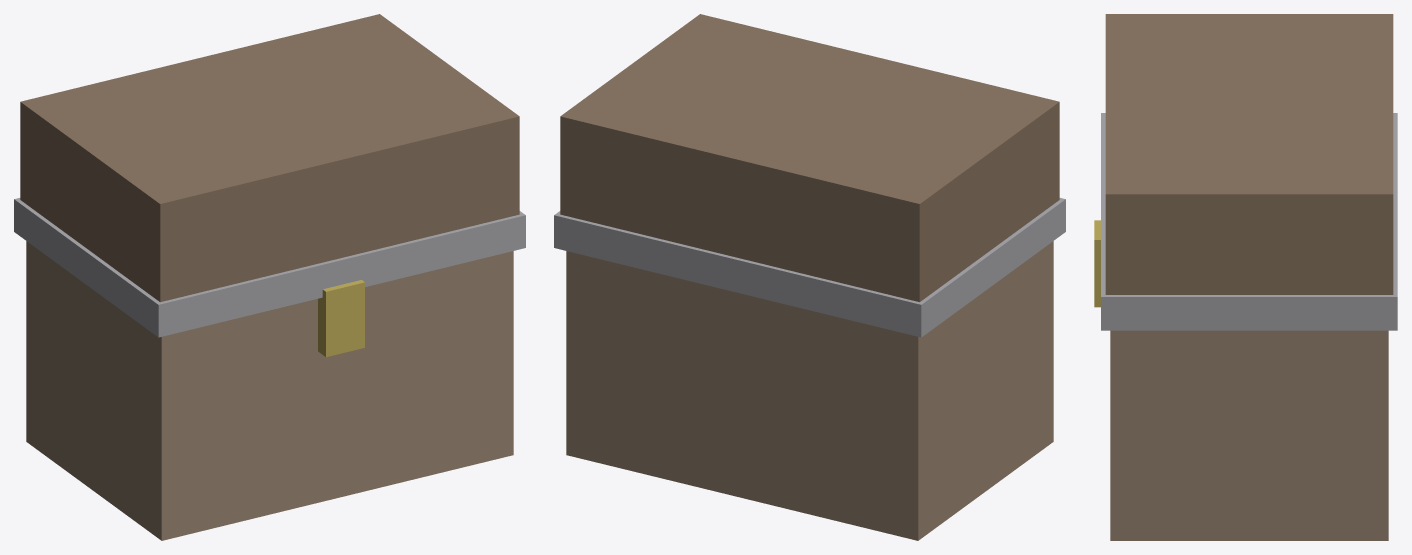
File: Chest_Closed.glb
3 renders of one model, left to right at view 1: azimuth 30°, elevation 25°; view 2: azimuth 150°, elevation 25°; view 3: azimuth 270°, elevation 25°, orthographic. The views are drawn at different scales.
Visible parts, largest first — view 1: geometry_0; view 2: geometry_0; view 3: geometry_0.
Boxes of the visible parts, x1,y1,x2,y2 form: geometry_0: [14, 14, 525, 540]; geometry_0: [554, 14, 1065, 540]; geometry_0: [1094, 14, 1397, 540].
Bounding box in the file's own units: 0.94 × 0.83 × 0.655.
